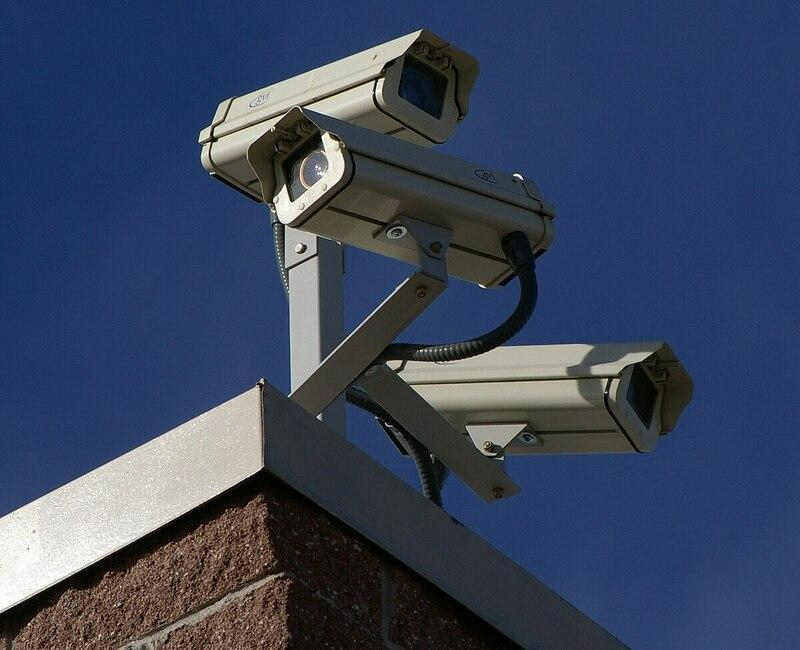box: (369, 326, 696, 469), (268, 96, 585, 225), (185, 117, 480, 233)
